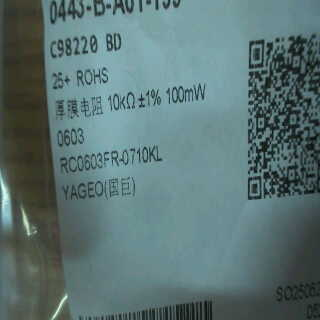10kR: (106, 86, 137, 115)
